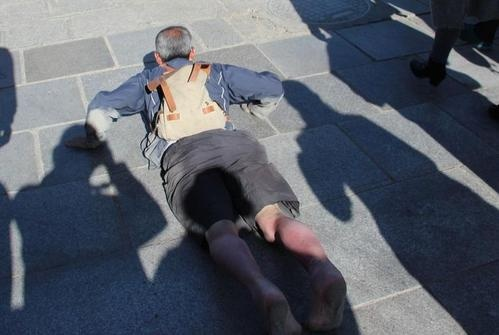falling: (103, 4, 385, 335)
